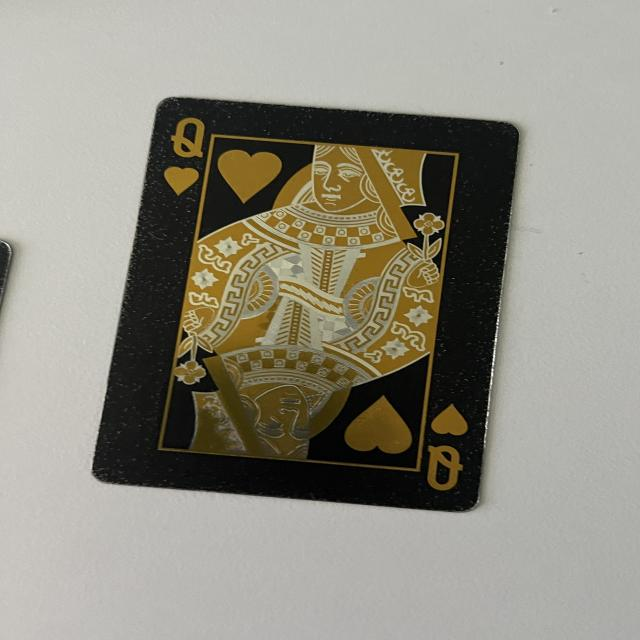QH: (419, 403, 472, 498), (158, 114, 212, 202)
